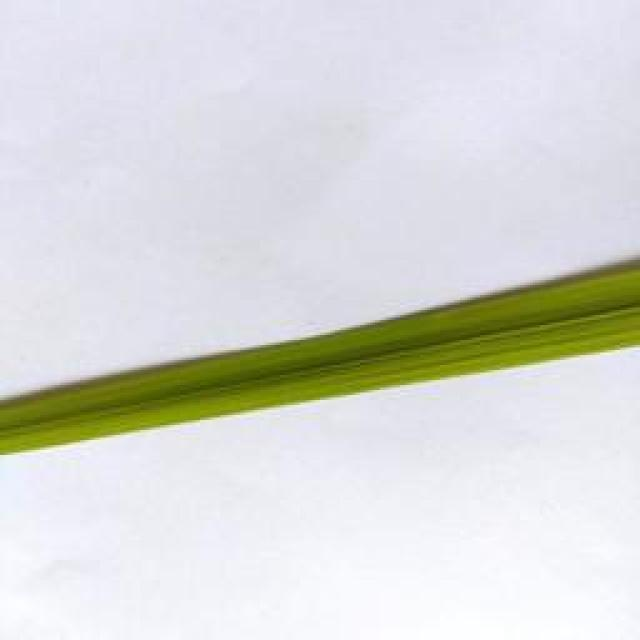Healthy-Plant: (0, 269, 640, 456)
